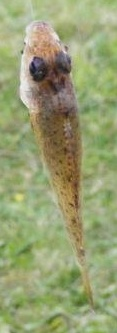Gymnocephalus cernuus: (20, 20, 97, 313)
